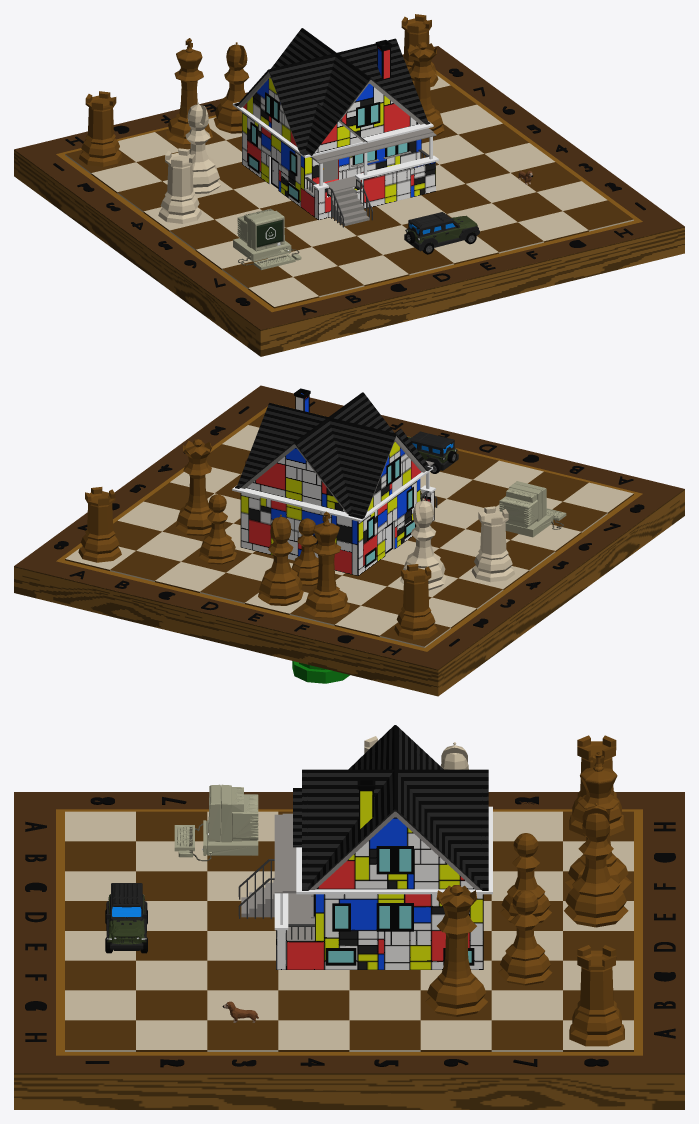
3 renders of one model, top to bottom at view 1: azimuth 30°, elevation 25°; view 2: azimuth 150°, elevation 25°; view 3: azimuth 270°, elevation 25°, orthographic. The views are drawn at different scales.
Visible parts, largest first — view 1: Cube.002, Cube.840, OBJRANDOM_RETRO_PC, VEHICLES_JEEP; view 2: Cube.002, Cube.840, OBJRANDOM_RETRO_PC, VEHICLES_JEEP, UNDERGROUND_PIPES; view 3: Cube.002, Cube.840, OBJRANDOM_RETRO_PC, VEHICLES_JEEP.
Part boxes in pixels (x1,y1,x2,y2): Cube.002: (14, 14, 684, 356); Cube.840: (232, 28, 438, 227); OBJRANDOM_RETRO_PC: (233, 208, 301, 270); VEHICLES_JEEP: (404, 212, 479, 254); Cube.002: (14, 385, 684, 696); Cube.840: (232, 388, 437, 575); OBJRANDOM_RETRO_PC: (499, 481, 566, 537); VEHICLES_JEEP: (408, 431, 458, 473); UNDERGROUND_PIPES: (292, 661, 349, 683); Cube.002: (14, 735, 684, 1109); Cube.840: (238, 725, 492, 969); OBJRANDOM_RETRO_PC: (174, 784, 258, 861); VEHICLES_JEEP: (105, 883, 147, 953).
Size of the model in its own units: 3981 by 2071 by 4012.
Materials: 33 (3 with a texture image).
